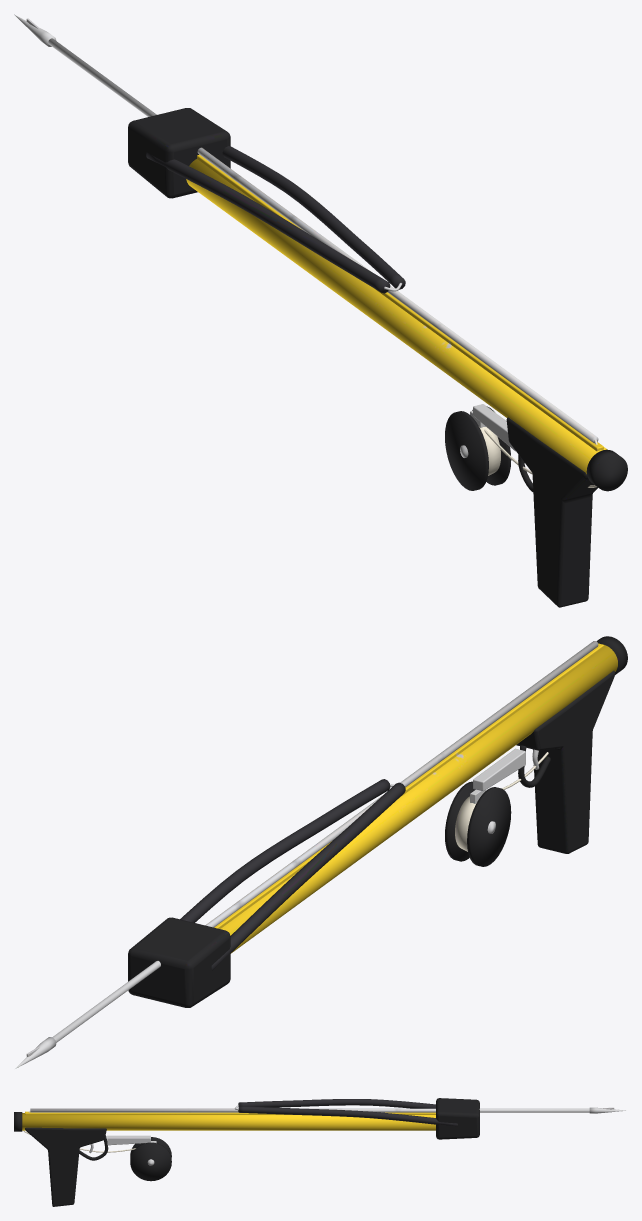
The model's file is Weapon_HarpoonGun.glb.
The picture shows the model from 3 angles, top to bottom: view 1: azimuth 30°, elevation 25°; view 2: azimuth 150°, elevation 25°; view 3: azimuth 270°, elevation 25°; orthographic projection. The views are drawn at different scales.
Visible parts, largest first — view 1: Weapon_HarpoonGun_Game; view 2: Weapon_HarpoonGun_Game; view 3: Weapon_HarpoonGun_Game.
Boxes of the visible parts, x1,y1,x2,y2 form: Weapon_HarpoonGun_Game: [14, 14, 627, 607]; Weapon_HarpoonGun_Game: [15, 636, 627, 1068]; Weapon_HarpoonGun_Game: [14, 1098, 625, 1206].
Bounding box in the file's own units: 0.0718 × 0.1992 × 1.12.
Materials: 1 (1 with a texture image).
